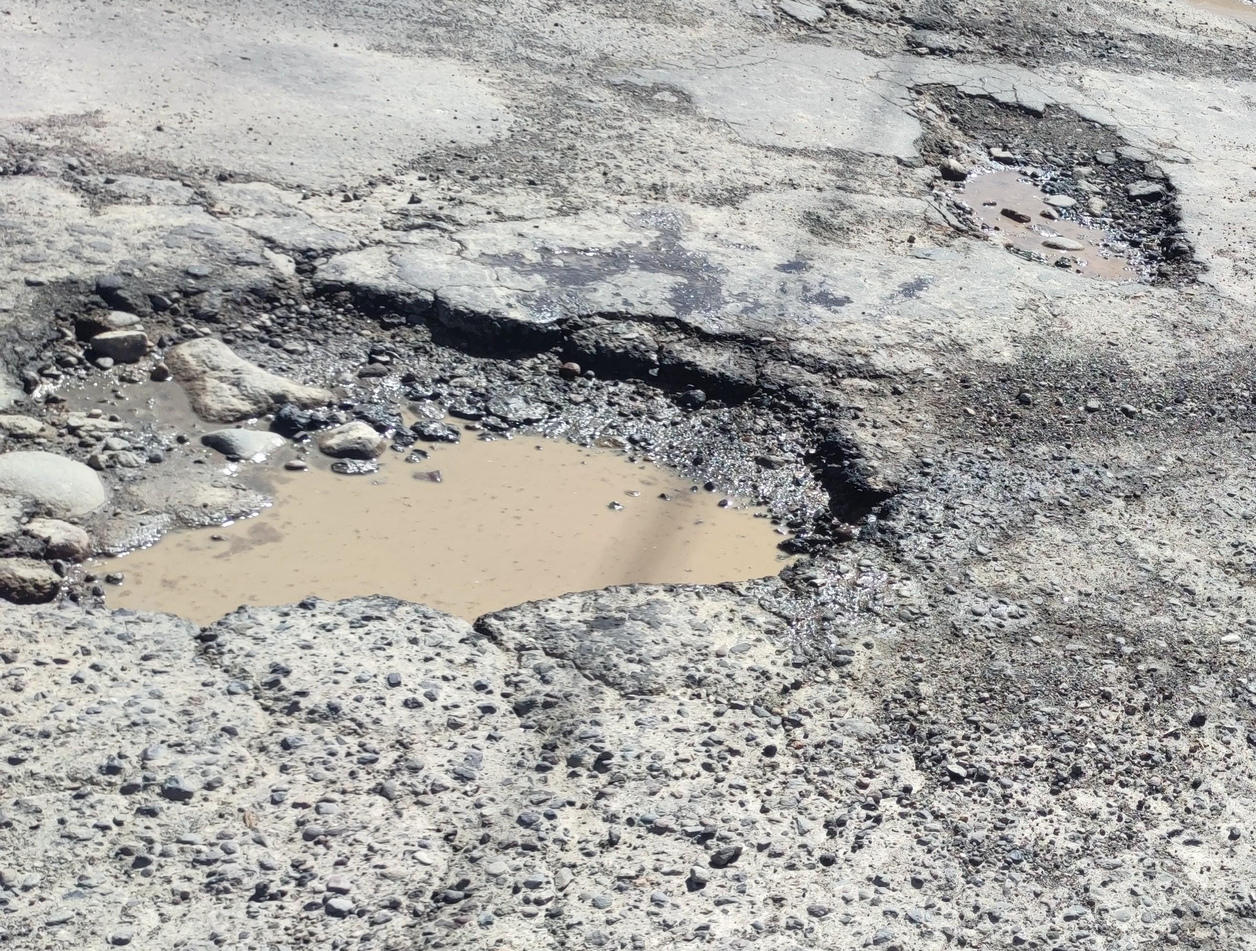BACHE: (0, 292, 881, 613), (921, 83, 1191, 281)
PARCHE: (643, 68, 917, 155)
PIEL DE COCODRILO: (89, 585, 1206, 907), (0, 134, 613, 305), (855, 55, 1202, 167)
